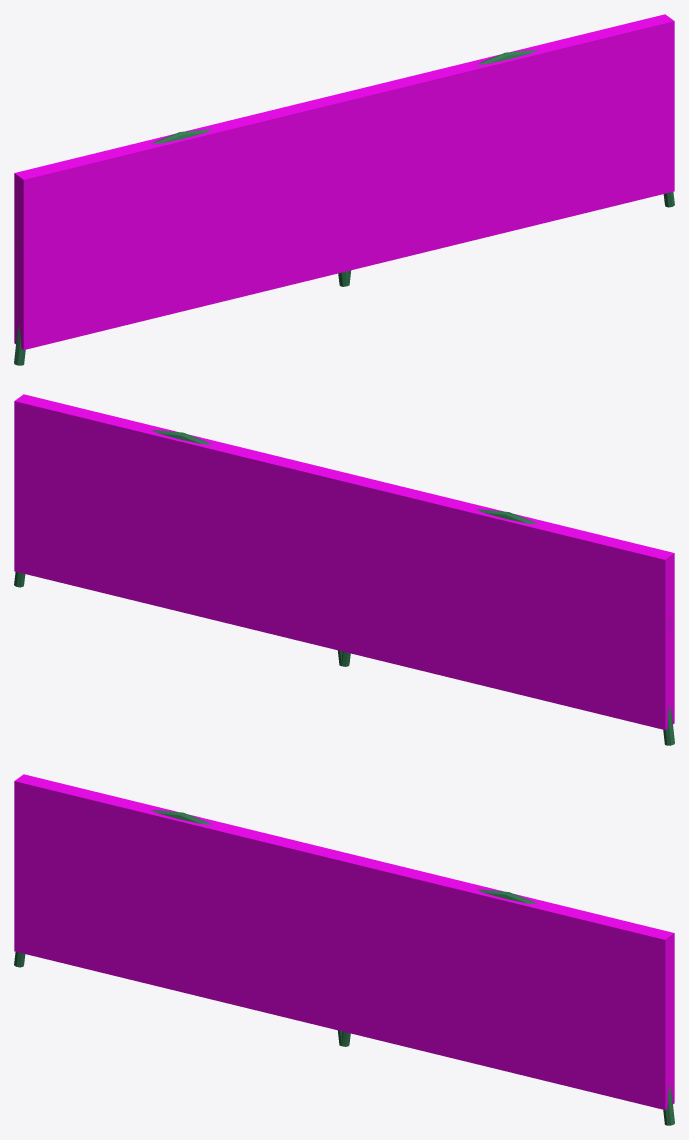
File: EN_Yard_LawnFence_2m.fbx
The picture shows the model from 3 angles, top to bottom: view 1: azimuth 30°, elevation 25°; view 2: azimuth 150°, elevation 25°; view 3: azimuth 330°, elevation 25°; orthographic projection.
Parts seen in each view (by area): view 1: COL_Body, EN_Yard_LawnFence_2m_Mesh; view 2: COL_Body, EN_Yard_LawnFence_2m_Mesh; view 3: COL_Body, EN_Yard_LawnFence_2m_Mesh.
Boxes of the visible parts, x1,y1,x2,y2 form: COL_Body: [14, 14, 674, 349]; EN_Yard_LawnFence_2m_Mesh: [14, 49, 674, 365]; COL_Body: [14, 394, 674, 729]; EN_Yard_LawnFence_2m_Mesh: [14, 429, 674, 745]; COL_Body: [14, 774, 674, 1109]; EN_Yard_LawnFence_2m_Mesh: [14, 809, 674, 1125].
Size of the model in its own units: 2.03 by 0.5659 by 0.05.
